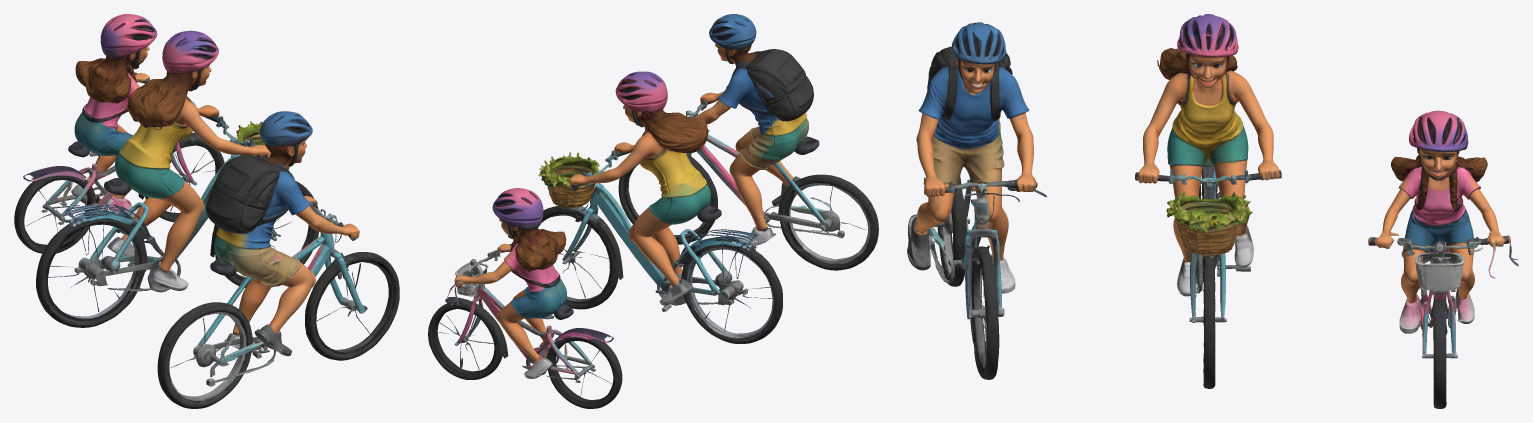
The model's file is eco-friendly-transport.glb.
3 views of the same model, side by side, from view 1: azimuth 30°, elevation 25°; view 2: azimuth 150°, elevation 25°; view 3: azimuth 270°, elevation 25° (orthographic). The views are drawn at different scales.
Parts seen in each view (by area): view 1: tripo_node_9230151e-cb66-4061-ba7b-e967df815e3a; view 2: tripo_node_9230151e-cb66-4061-ba7b-e967df815e3a; view 3: tripo_node_9230151e-cb66-4061-ba7b-e967df815e3a.
Boxes of the visible parts, x1,y1,x2,y2 form: tripo_node_9230151e-cb66-4061-ba7b-e967df815e3a: (14,14,399,408); tripo_node_9230151e-cb66-4061-ba7b-e967df815e3a: (428,14,878,408); tripo_node_9230151e-cb66-4061-ba7b-e967df815e3a: (907,14,1518,408).
Size of the model in its own units: 0.6321 by 0.5971 by 0.9976.
Materials: 1 (1 with a texture image).
